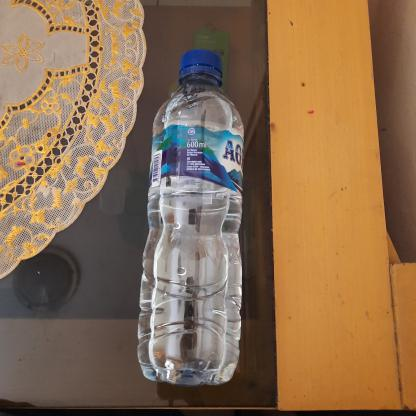plastic: (136, 46, 250, 393)
